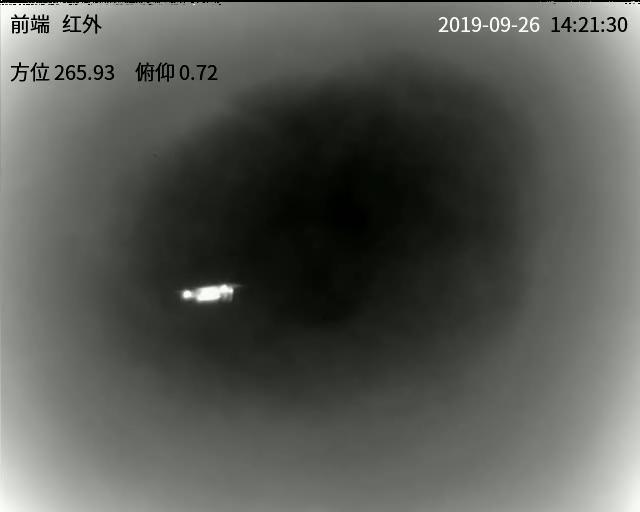uav: (178, 281, 248, 308)
